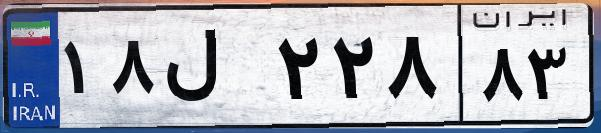1: (57, 26, 110, 100)
2: (270, 28, 330, 110), (330, 28, 385, 110)
3: (525, 38, 570, 115)
8: (385, 28, 445, 110), (475, 38, 525, 113), (110, 28, 158, 98)
ل: (158, 20, 270, 120)
